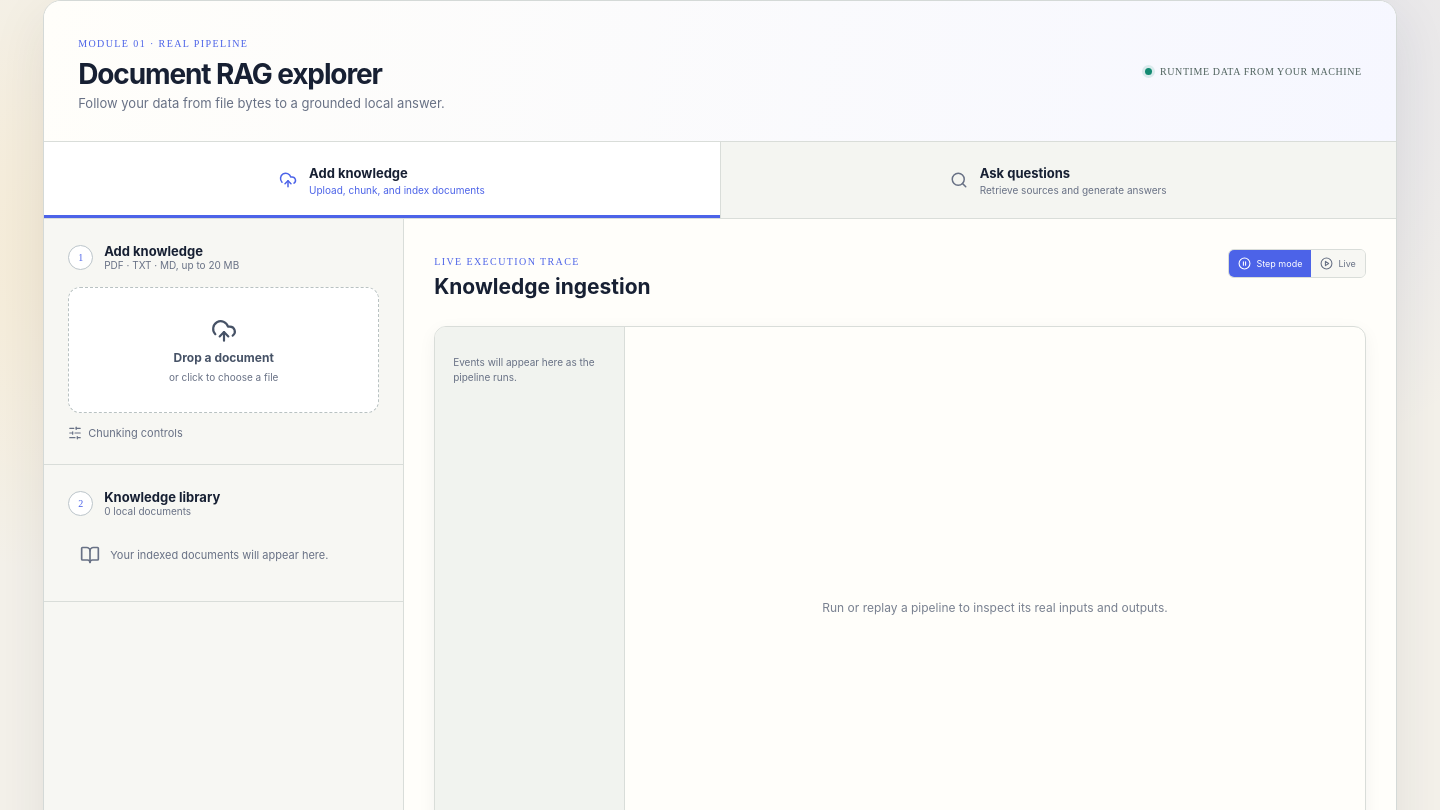
Test case: RAG visualization › separates adding knowledge from asking questions
The width and height of the screenshot is (1440, 810).
Expected: the text "Drop a document" is shown, [174,350,274,364]
What coordinates should you click on to do the following:
click the button "Ask questions Retrieve sources and generate answers"
I would click on:
 (1058, 180)
Its box is [720,142,1396,218].
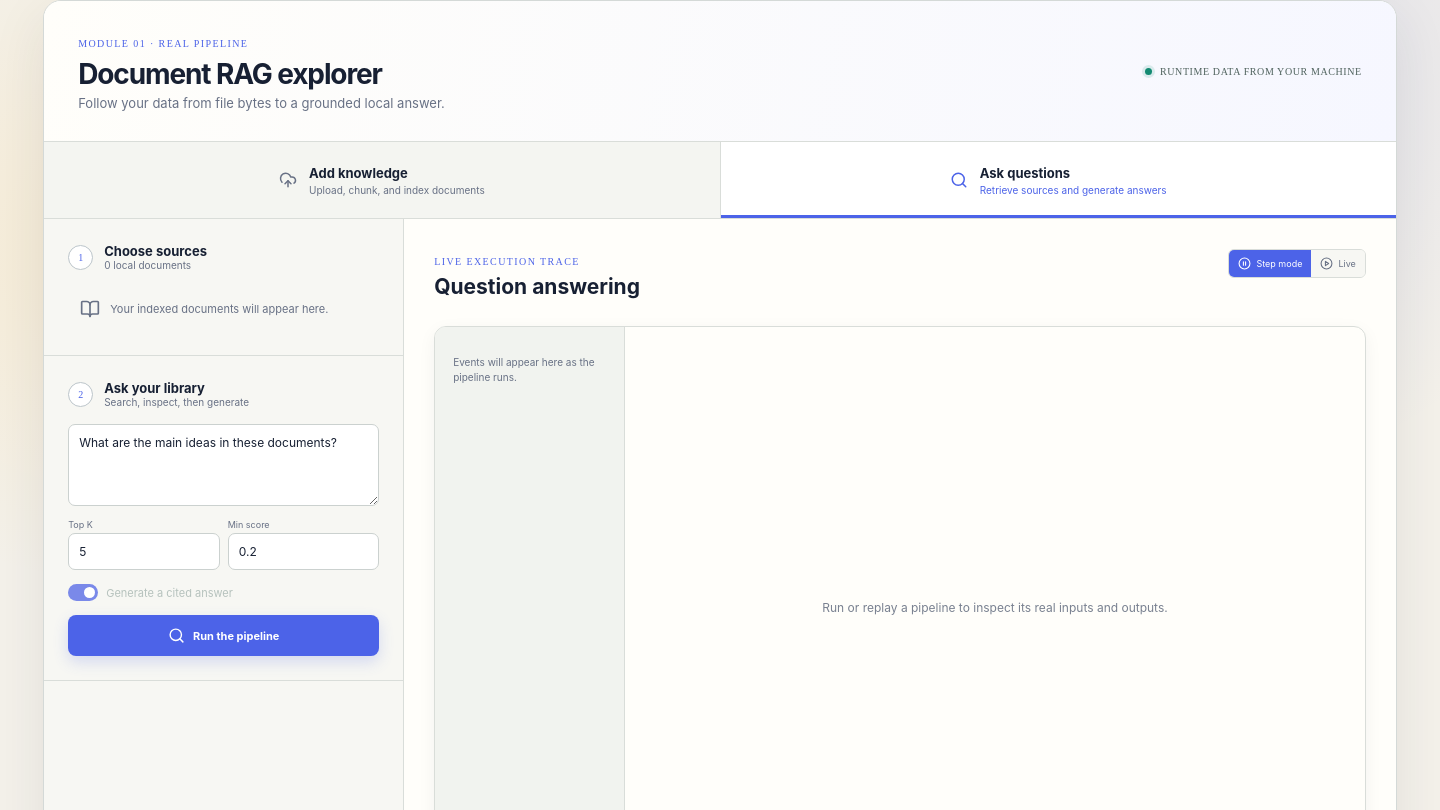
Expected: the text box is shown, [68,424,379,506]
Expected: the button "Drop a document" is gone
